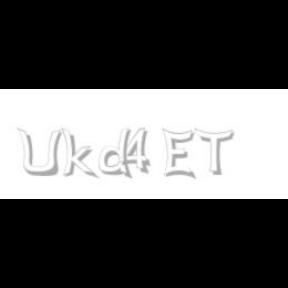4: (120, 128, 150, 174)
E: (162, 128, 194, 180)
T: (194, 128, 234, 176)
U: (16, 128, 62, 178)
d: (98, 128, 136, 180)
k: (61, 128, 99, 180)
